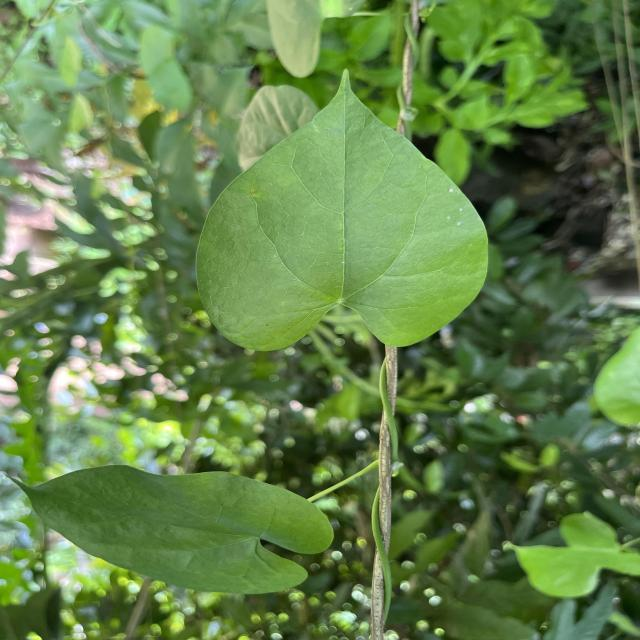Tinospora cordifolia: (190, 63, 493, 360), (0, 460, 336, 602)
